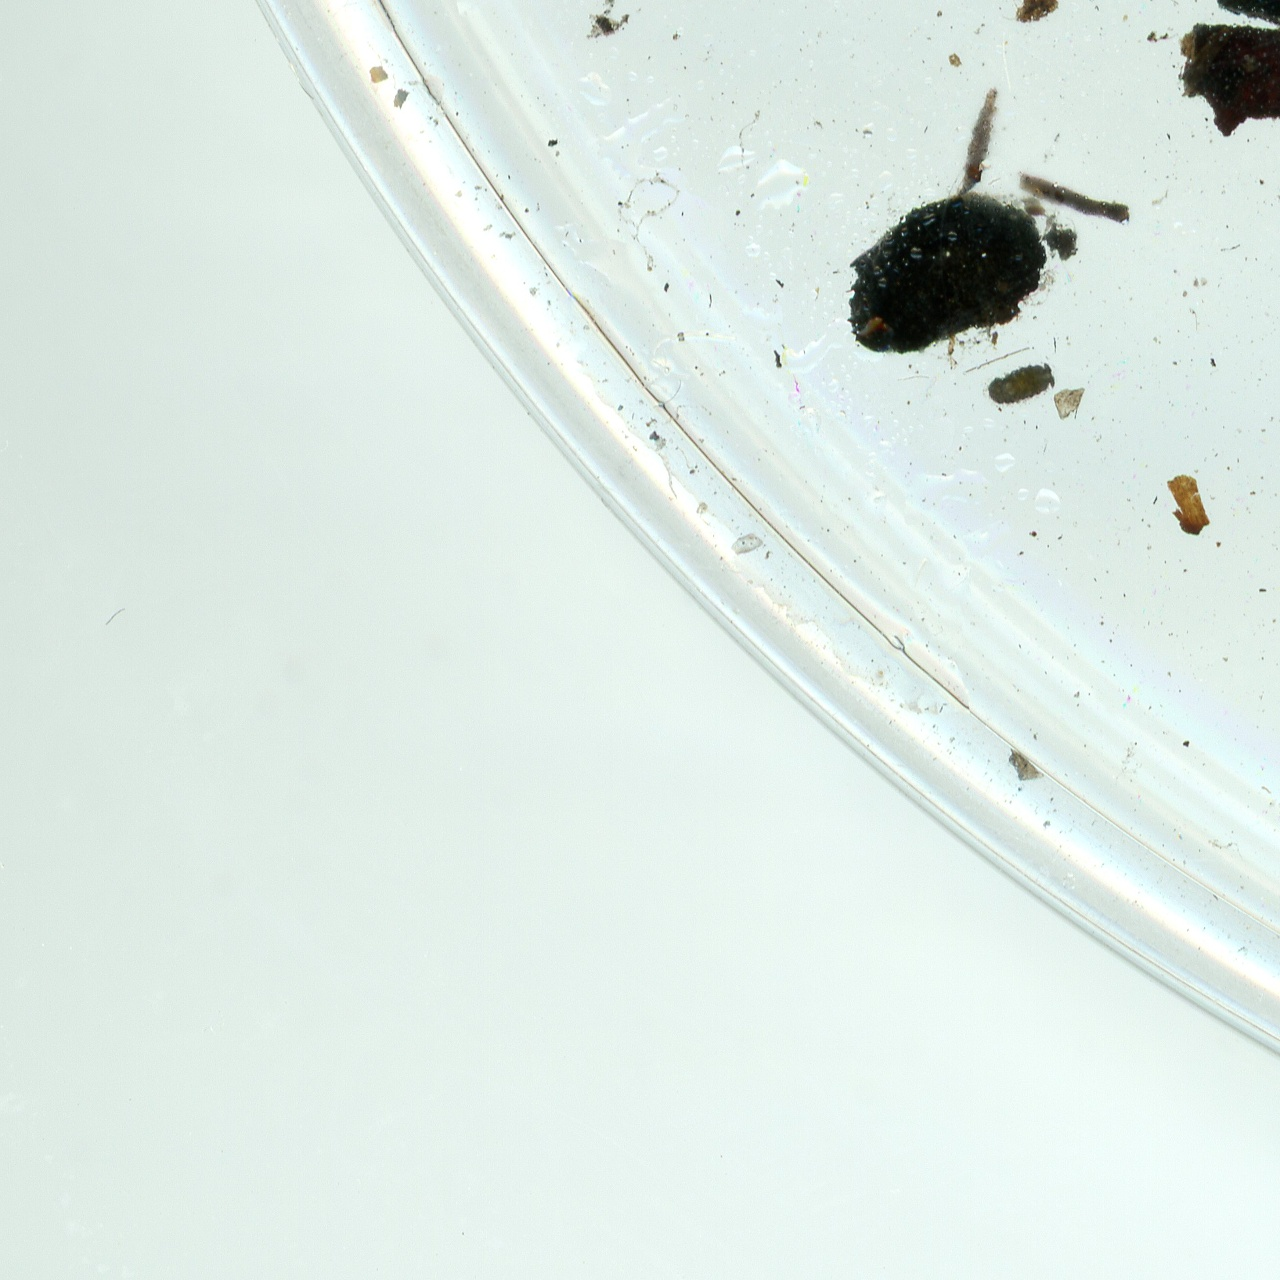arthropod: (979, 353, 1063, 418)
